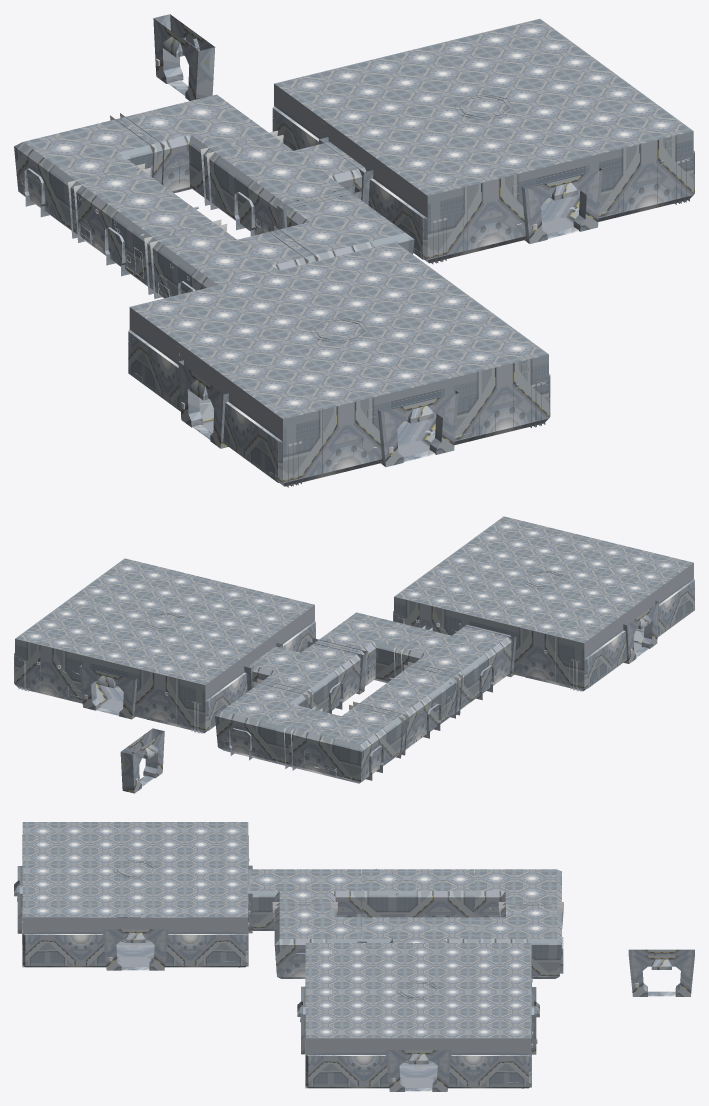
The model's file is Combined_Mesh_root_scene__13_e7023e4f__ZombiesII_laboratory_03_d_5a0f8016_c1f257.obj.
3 views of the same model, one above another, from view 1: azimuth 30°, elevation 25°; view 2: azimuth 150°, elevation 25°; view 3: azimuth 270°, elevation 25° (orthographic). The views are drawn at different scales.
Bounding box in the file's own units: 93.74 × 10.34 × 121.
Materials: 592 (592 with a texture image).
